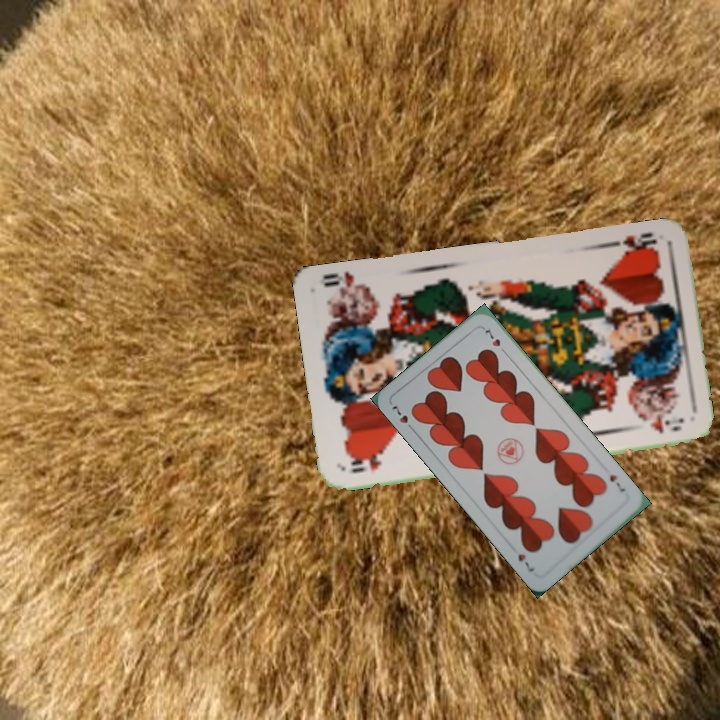H7: (388, 401, 417, 434), (606, 470, 628, 494)
HO: (617, 228, 661, 258), (346, 450, 388, 476)
